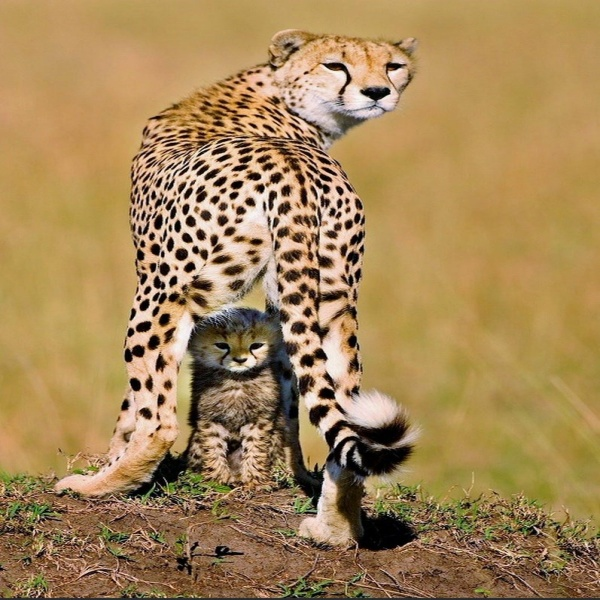Cheetah: (62, 28, 422, 556), (186, 299, 293, 493)
